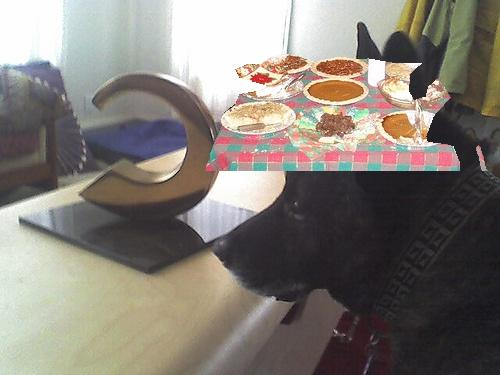tampered: (206, 55, 488, 171)
